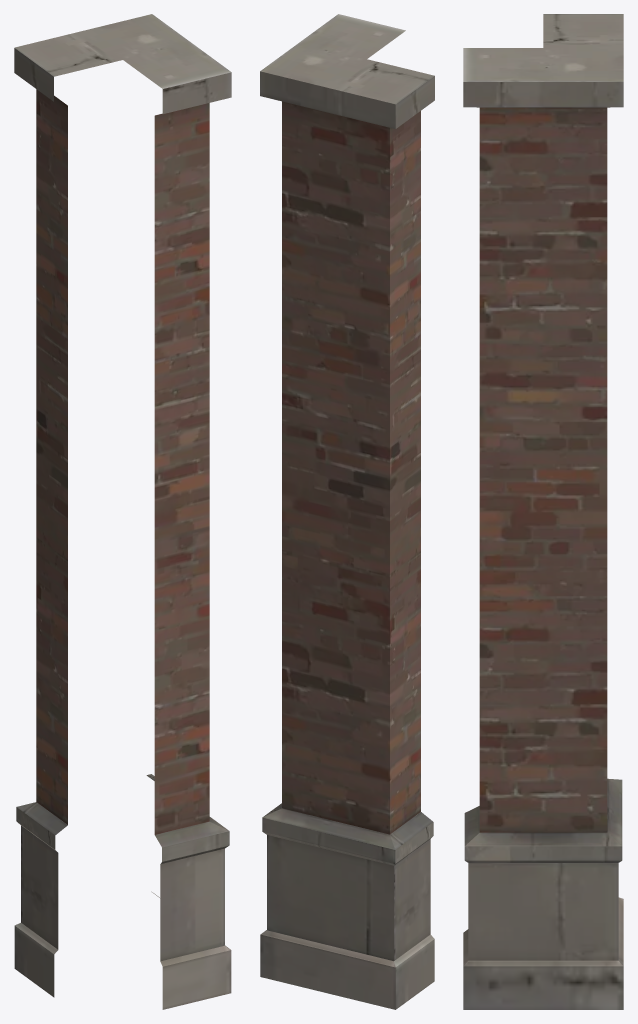
The picture shows the model from 3 angles, left to right: view 1: azimuth 30°, elevation 25°; view 2: azimuth 150°, elevation 25°; view 3: azimuth 270°, elevation 25°; orthographic projection. The views are drawn at different scales.
Parts seen in each view (by area): view 1: body0_model0_lod0_mesh0; view 2: body0_model0_lod0_mesh0; view 3: body0_model0_lod0_mesh0.
Part boxes in pixels (left/top/right/bottom): body0_model0_lod0_mesh0: left=14, top=14, right=231, bottom=1009; body0_model0_lod0_mesh0: left=260, top=14, right=434, bottom=1009; body0_model0_lod0_mesh0: left=463, top=14, right=623, bottom=1009.
Bounding box in the file's own units: 40.13 × 256 × 40.13.
1 material, 1 textured.
